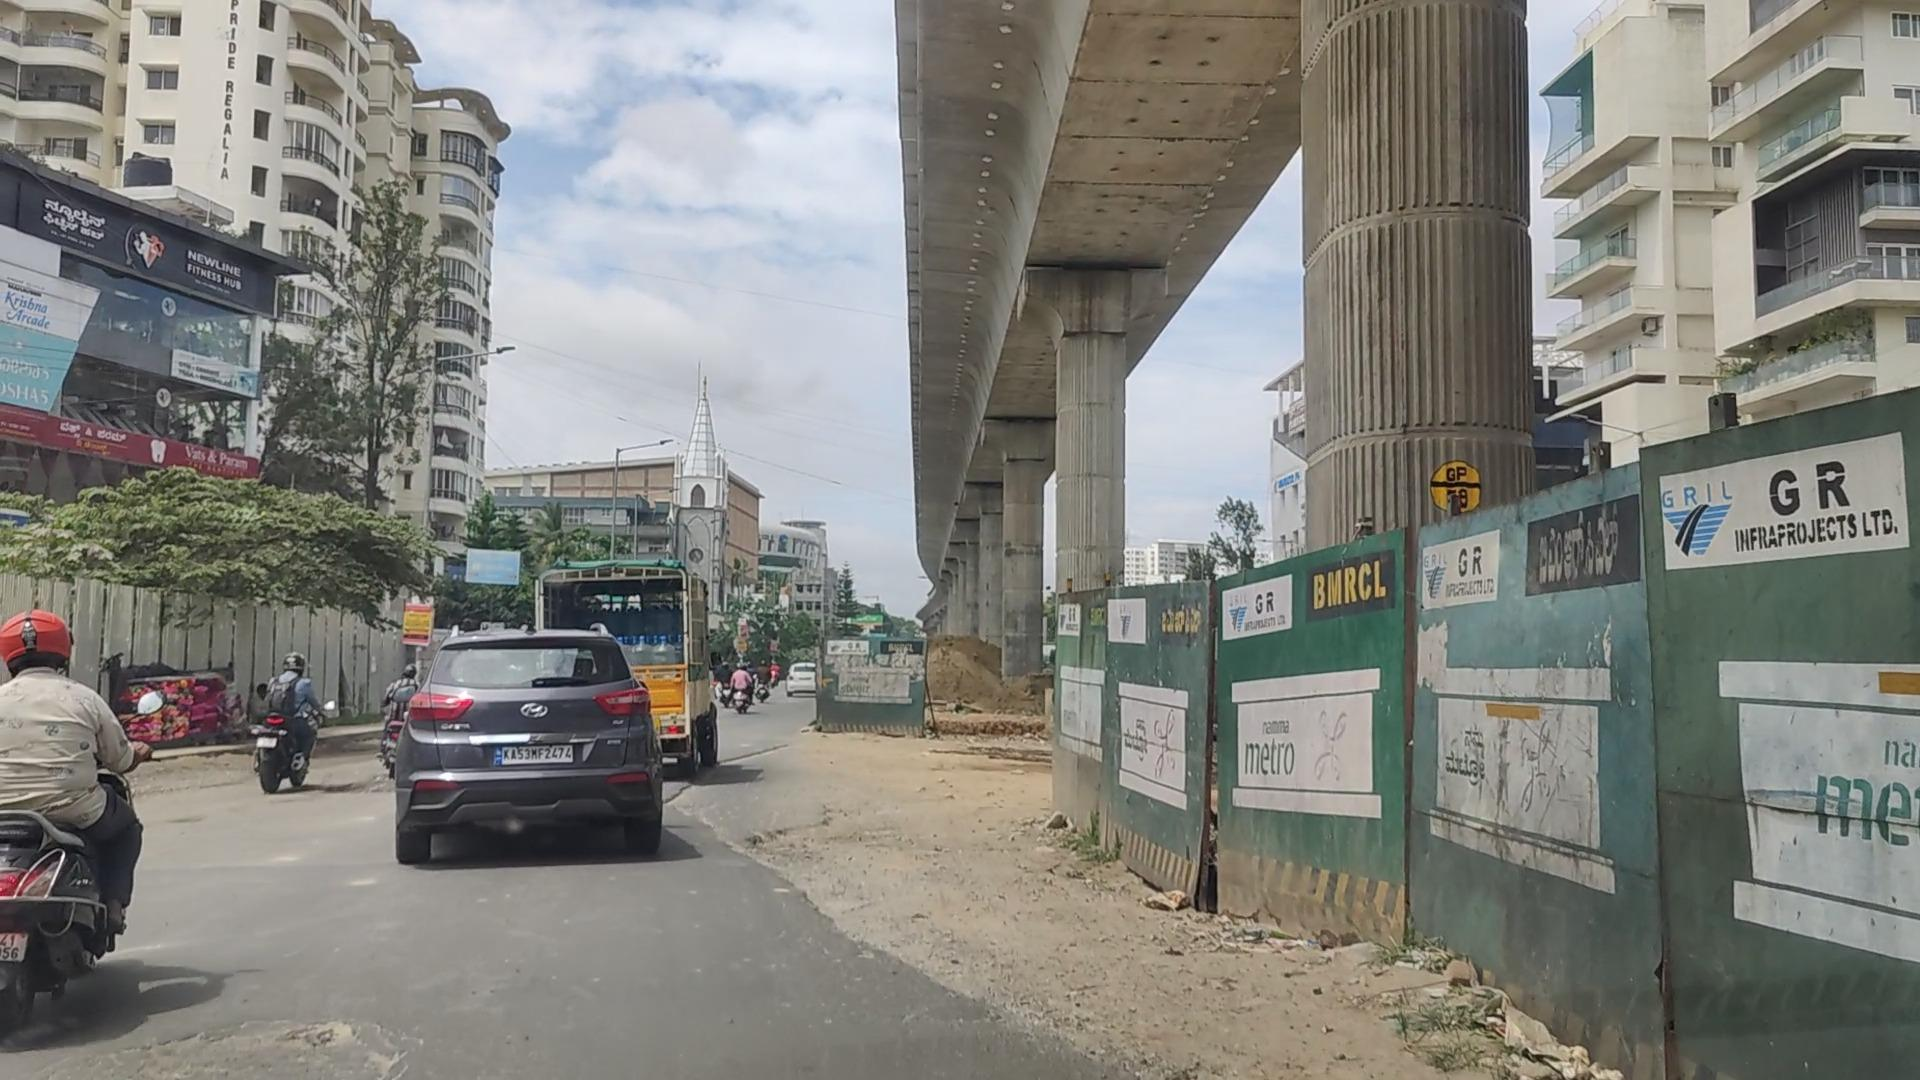LMV: (392, 633, 658, 885), (0, 620, 133, 1029)
RoadDamages: (898, 898, 1050, 1055), (152, 1019, 405, 1080), (765, 839, 862, 953), (665, 782, 749, 835)
